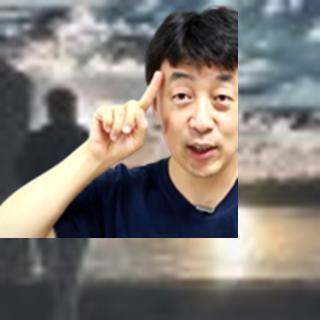IRRITATED: (87, 67, 165, 166)
